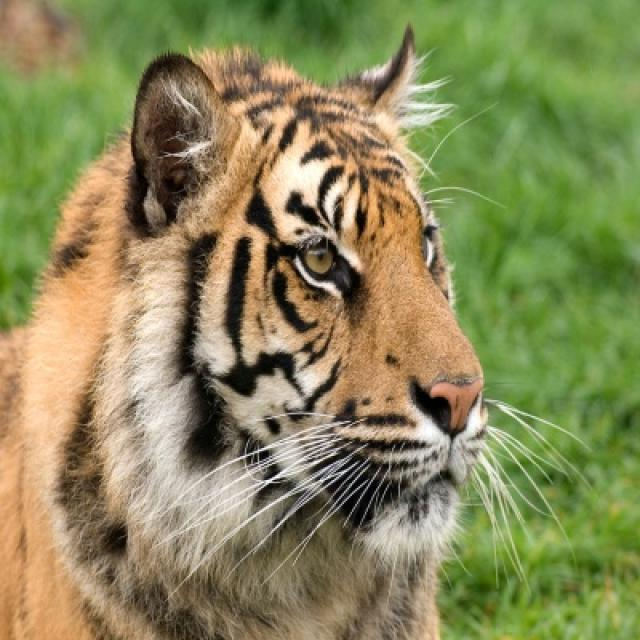Tiger: (2, 27, 486, 637)
